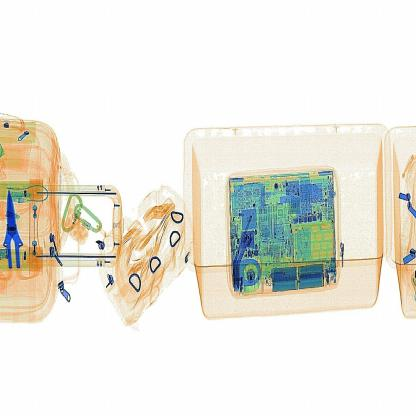gun: (1, 182, 48, 292)
